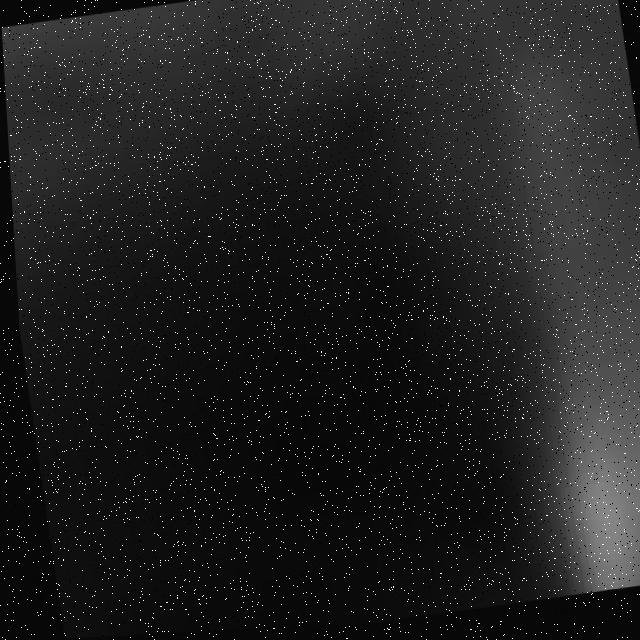person: (432, 1, 640, 609)
